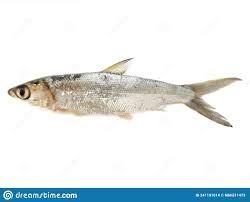Bangus: (8, 55, 245, 131)
